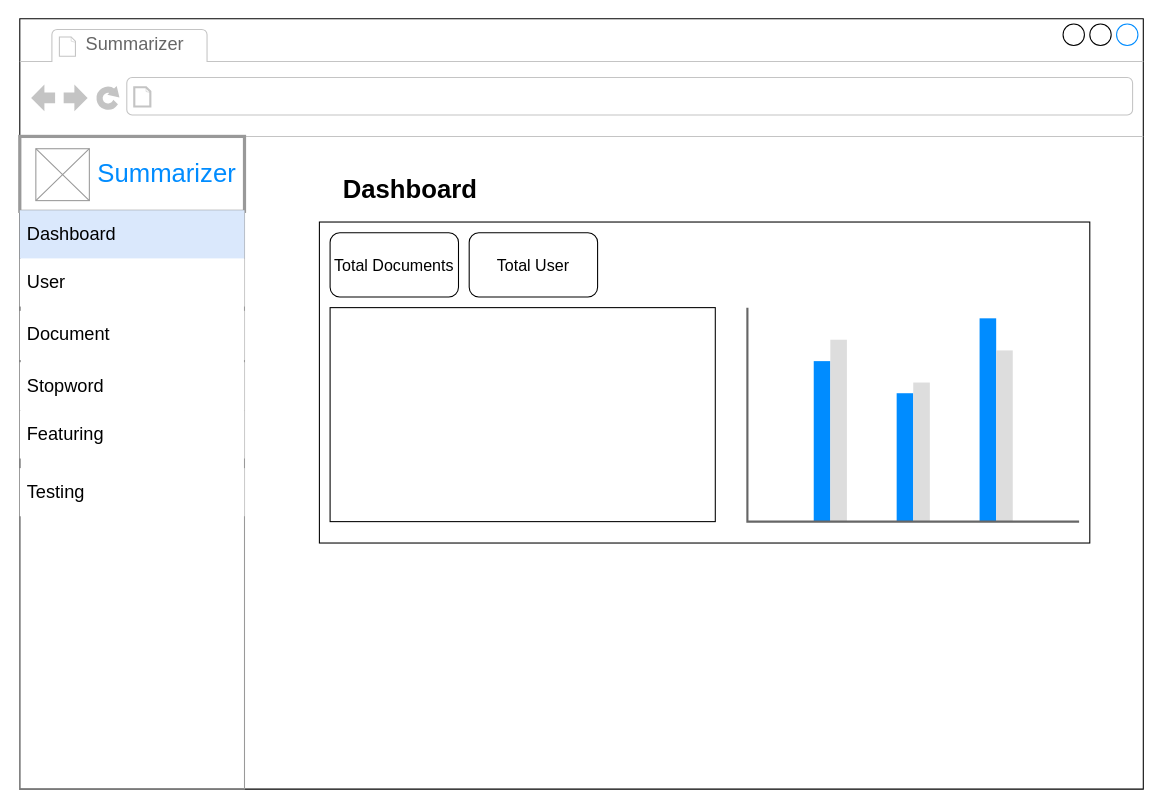
The diagram is 1162 pixels wide and 808 high, and some of its shapes have lost their labels. Each missing label, with the box of its shape:
https://: (158, 82, 426, 111)
Recent Activity: (329, 307, 715, 522)
